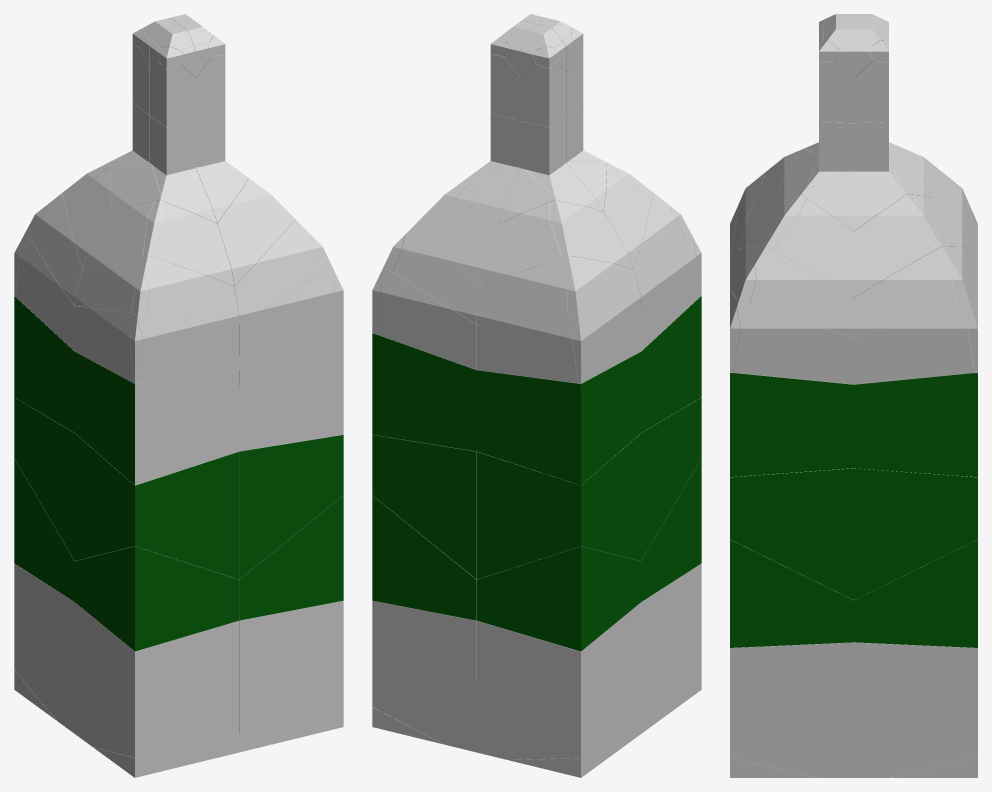
Rendered from CubeBottle.fbx.
3 views of the same model, side by side, from view 1: azimuth 30°, elevation 25°; view 2: azimuth 150°, elevation 25°; view 3: azimuth 270°, elevation 25° (orthographic). The views are drawn at different scales.
Visible parts, largest first — view 1: Cube.001_cell.007, Cube.001_cell.006, Cube.001_cell.065, Cube.001_cell.003, Cube.001_cell.036, Cube.001_cell.002, Cube.001_cell.064, Cube.001_cell.009, Cube.001_cell.037, Cube.001_cell.005, Cube.001_cell.013, Cube.001_cell.017 (+24 smaller); view 2: Cube.001_cell.005, Cube.001_cell.004, Cube.001_cell.067, Cube.001_cell.001, Cube.001_cell.039, Cube.001_cell, Cube.001_cell.066, Cube.001_cell.011, Cube.001_cell.035, Cube.001_cell.007, Cube.001_cell.015, Cube.001_cell.019 (+23 smaller); view 3: Cube.001_cell.003, Cube.001_cell.001, Cube.001_cell.002, Cube.001_cell, Cube.001_cell.066, Cube.001_cell.064, Cube.001_cell.035, Cube.001_cell.037, Cube.001_cell.010, Cube.001_cell.008, Cube.001_cell.012, Cube.001_cell.014 (+26 smaller).
Part boxes in pixels (x1,y1,x2,y2): Cube.001_cell.007: [74, 602, 239, 759]; Cube.001_cell.006: [74, 433, 238, 579]; Cube.001_cell.065: [74, 352, 239, 485]; Cube.001_cell.003: [239, 600, 343, 752]; Cube.001_cell.036: [74, 546, 238, 651]; Cube.001_cell.002: [239, 434, 343, 579]; Cube.001_cell.064: [239, 333, 343, 451]; Cube.001_cell.009: [74, 306, 239, 383]; Cube.001_cell.037: [239, 495, 343, 620]; Cube.001_cell.005: [14, 563, 74, 733]; Cube.001_cell.013: [74, 256, 239, 324]; Cube.001_cell.017: [83, 201, 234, 286]; Cube.001_cell.005: [476, 602, 641, 759]; Cube.001_cell.004: [477, 433, 641, 579]; Cube.001_cell.067: [476, 352, 641, 485]; Cube.001_cell.001: [372, 600, 476, 752]; Cube.001_cell.039: [477, 546, 641, 651]; Cube.001_cell: [372, 434, 476, 579]; Cube.001_cell.066: [372, 333, 476, 451]; Cube.001_cell.011: [477, 306, 641, 383]; Cube.001_cell.035: [372, 495, 476, 620]; Cube.001_cell.007: [641, 563, 701, 733]; Cube.001_cell.015: [477, 256, 641, 324]; Cube.001_cell.019: [481, 201, 632, 286]; Cube.001_cell.003: [730, 642, 853, 777]; Cube.001_cell.001: [854, 642, 977, 777]; Cube.001_cell.002: [730, 468, 853, 600]; Cube.001_cell: [854, 468, 977, 600]; Cube.001_cell.066: [854, 372, 977, 477]; Cube.001_cell.064: [730, 372, 853, 476]; Cube.001_cell.035: [854, 540, 977, 647]; Cube.001_cell.037: [730, 540, 853, 647]; Cube.001_cell.010: [854, 289, 977, 384]; Cube.001_cell.008: [730, 289, 853, 384]; Cube.001_cell.012: [730, 246, 853, 337]; Cube.001_cell.014: [854, 246, 977, 337].
Size of the model in its own units: 218 by 684 by 218.
